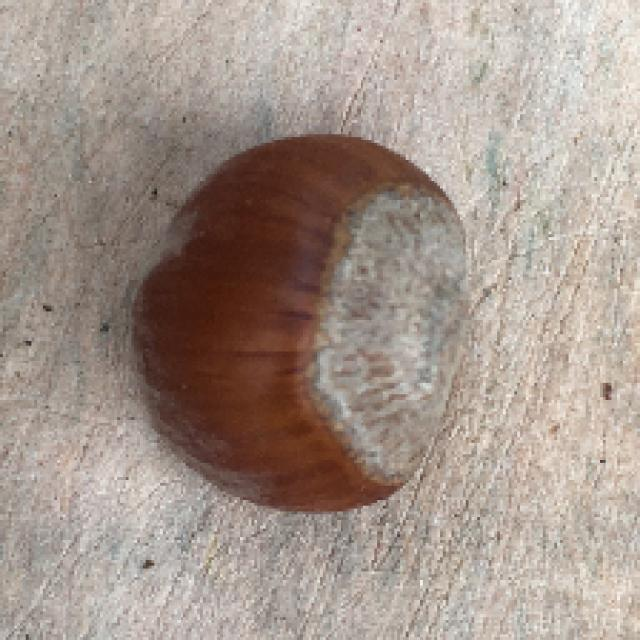qualityHazelnut: (123, 126, 477, 518)
